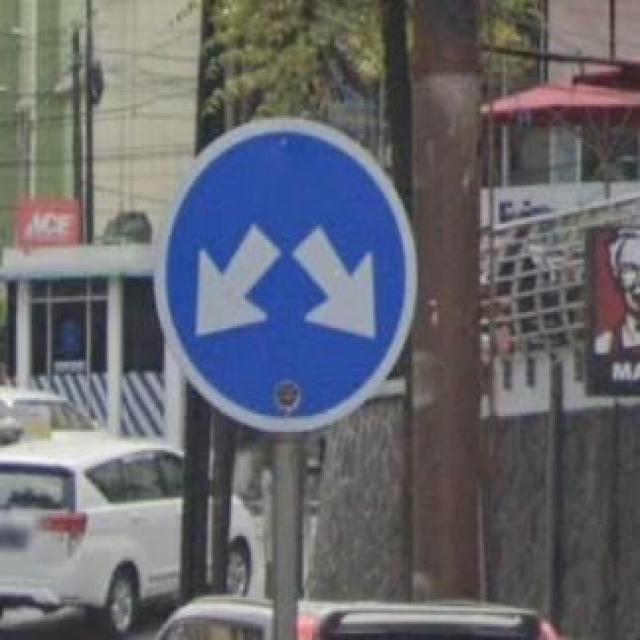traffic sign: (154, 120, 416, 432)
